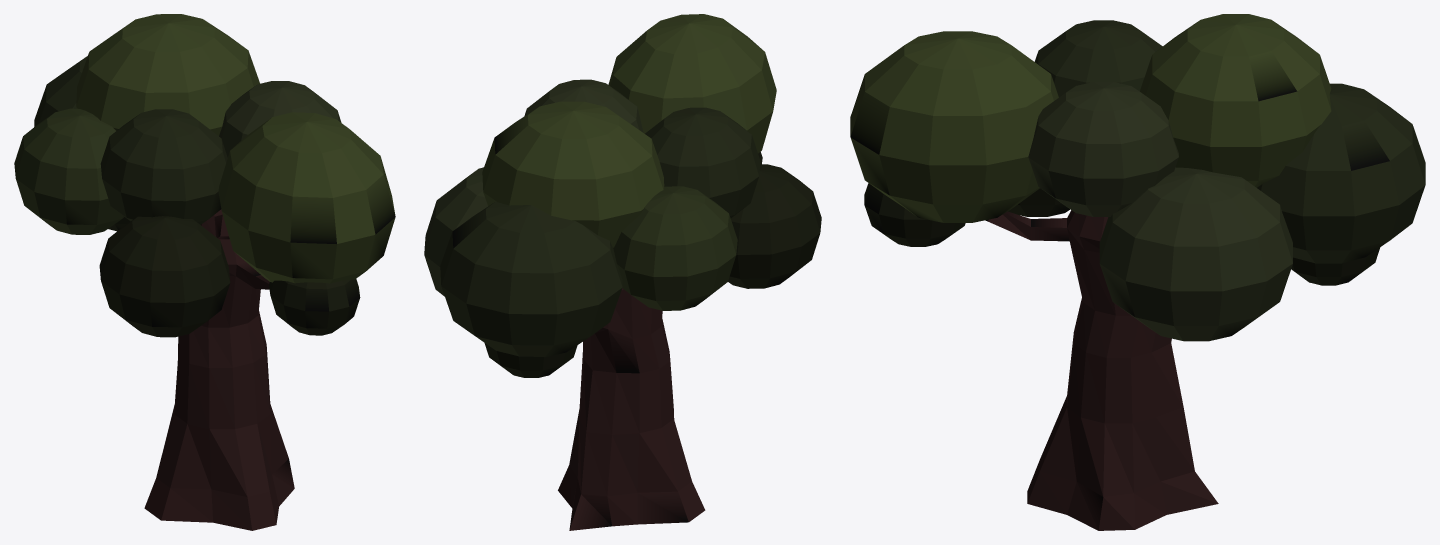
Rendered from oak_wide.gltf.
3 renders of one model, left to right at view 1: azimuth 30°, elevation 25°; view 2: azimuth 150°, elevation 25°; view 3: azimuth 270°, elevation 25°, orthographic. The views are drawn at different scales.
Parts seen in each view (by area): view 1: OakWide; view 2: OakWide; view 3: OakWide.
Part boxes in pixels (<box>): OakWide: <box>14,14,395,530</box>; OakWide: <box>424,14,821,530</box>; OakWide: <box>850,14,1425,530</box>.
Size of the model in its own units: 2.1 by 2.85 by 3.14.
Materials: 1 (1 with a texture image).
